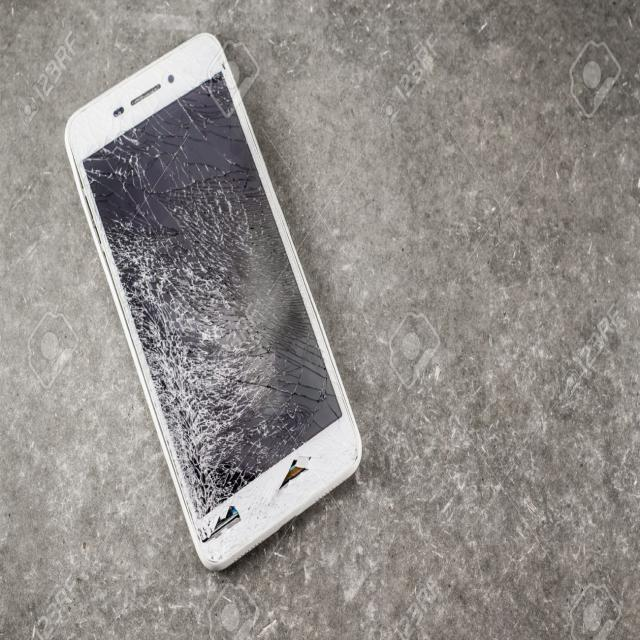Crack: (107, 204, 357, 566), (60, 30, 270, 245)
